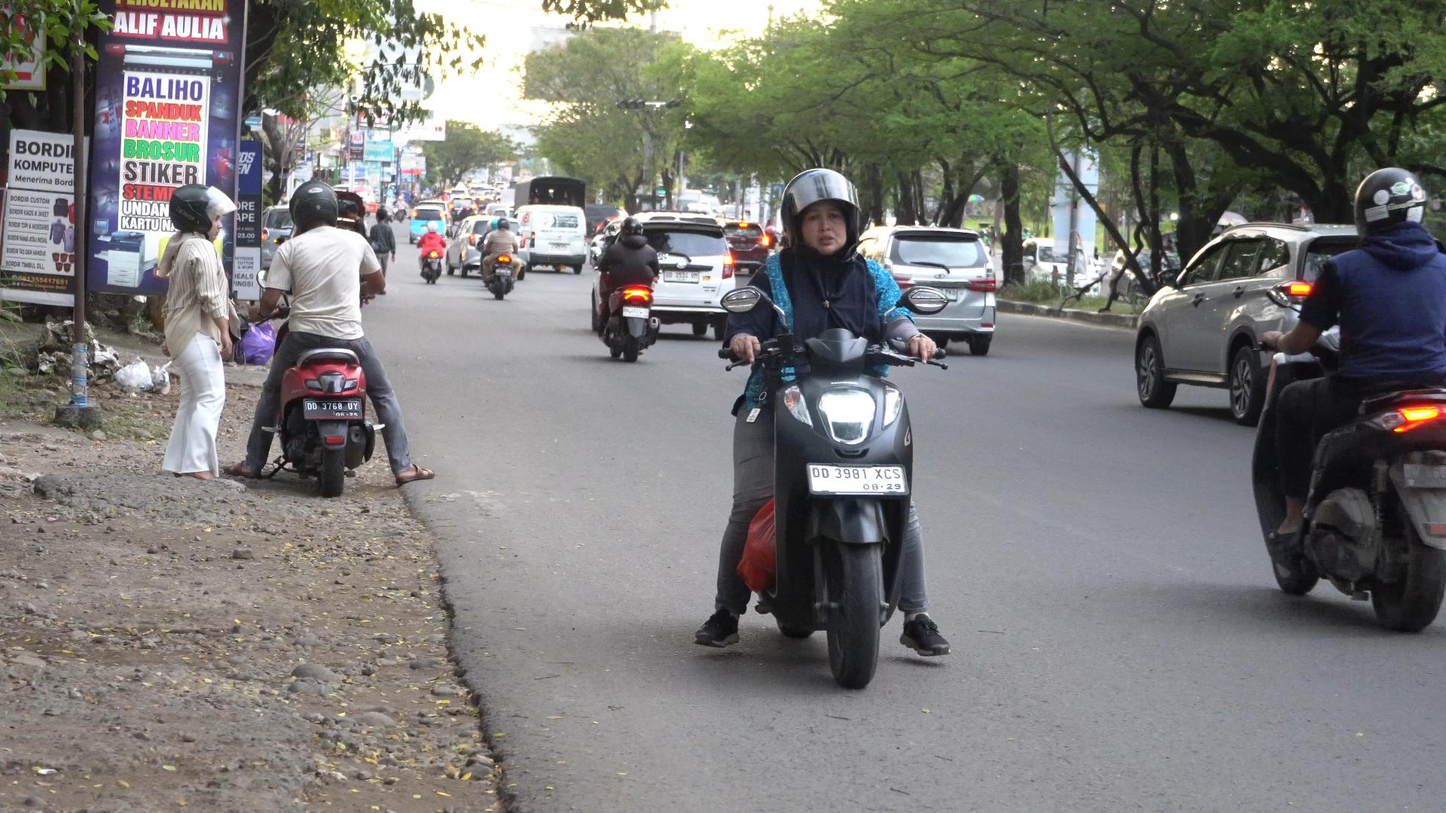number-plate: (806, 461, 912, 502)
